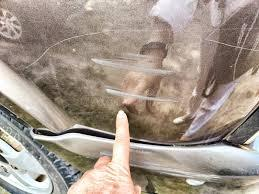scratch: (77, 11, 258, 117)
